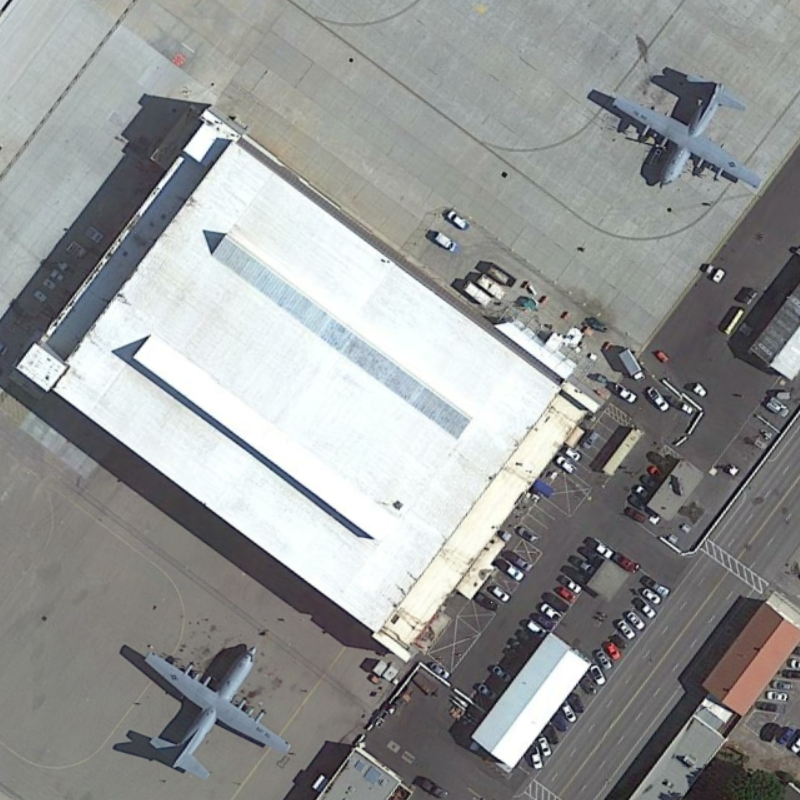A2: (135, 637, 299, 784), (603, 66, 770, 205)
